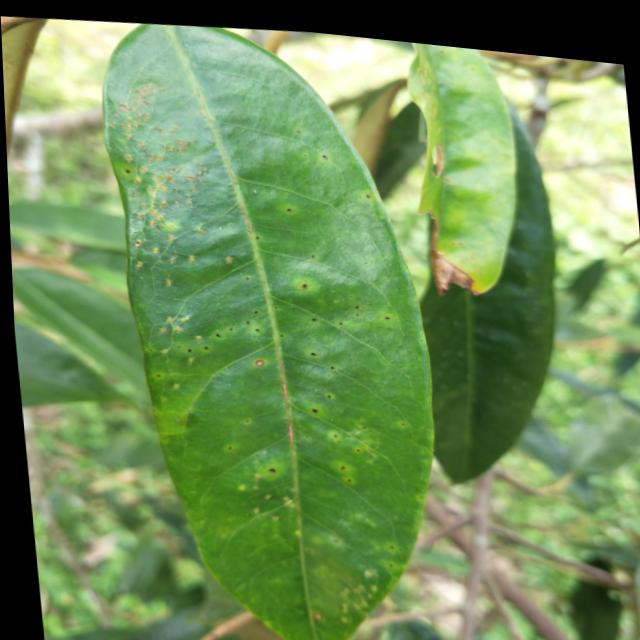Leaf Spot: (168, 147, 394, 505)
